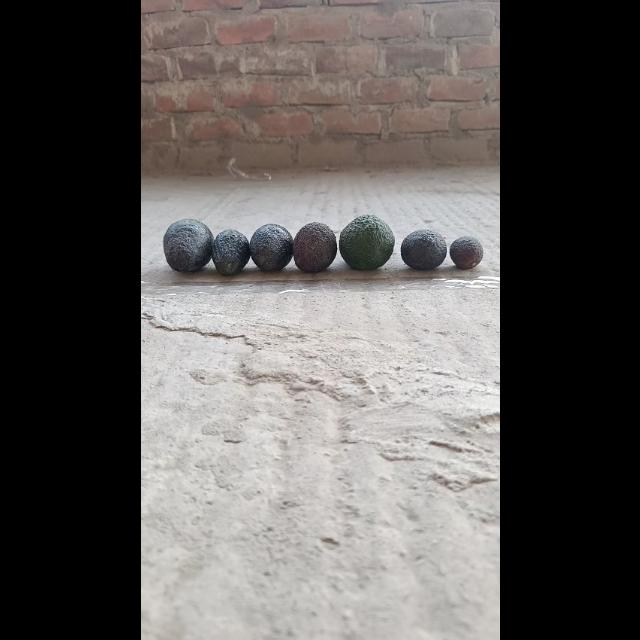Primera: (338, 214, 394, 270), (162, 218, 212, 272)
Segunda: (248, 222, 292, 272), (292, 222, 336, 272), (399, 228, 447, 270), (210, 228, 250, 276)
Tercera: (448, 236, 484, 270)
